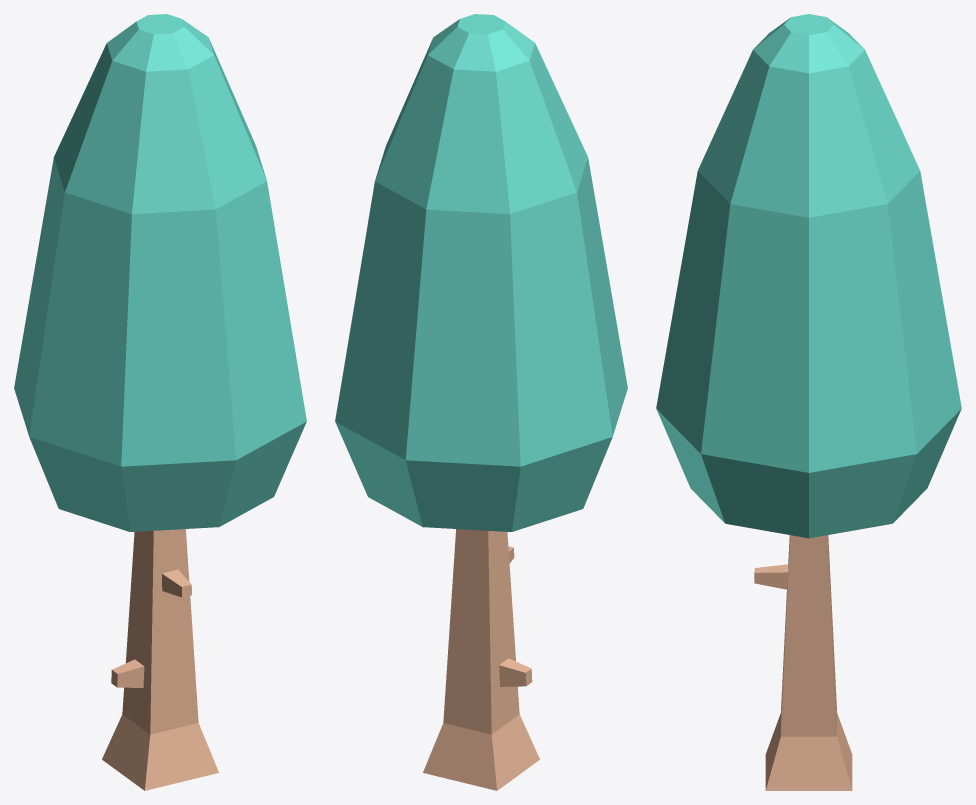
Rendered from tree_cone.gltf.
3 renders of one model, left to right at view 1: azimuth 30°, elevation 25°; view 2: azimuth 150°, elevation 25°; view 3: azimuth 270°, elevation 25°, orthographic.
Visible parts, largest first — view 1: tree_cone; view 2: tree_cone; view 3: tree_cone.
Boxes of the visible parts, box(x1,y1,x2,y2) form: tree_cone: box(14, 14, 306, 790); tree_cone: box(335, 14, 627, 790); tree_cone: box(656, 14, 961, 790).
Bounding box in the file's own units: 0.5297 × 1.43 × 0.5297.
